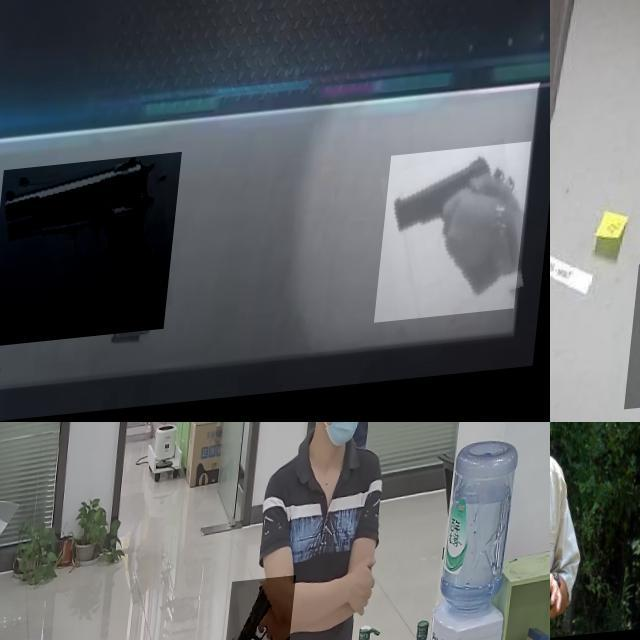-: (550, 576, 595, 626), (571, 422, 623, 445)
gun-knife-thesis - v11 Yolov5 augmented: (0, 157, 190, 349), (387, 154, 540, 333), (232, 582, 302, 640)
